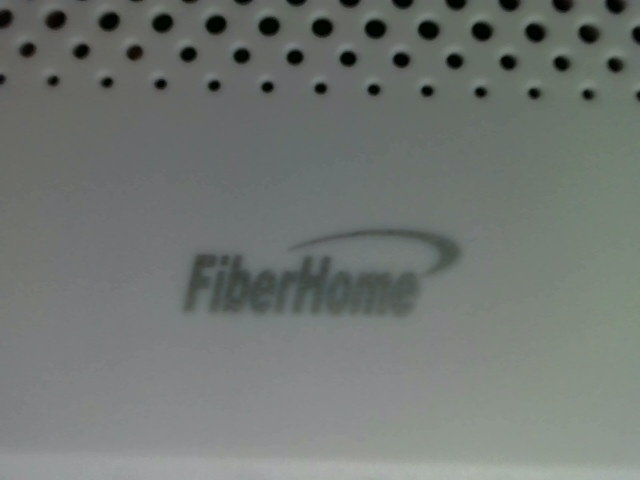AI_FiberHome: (171, 220, 467, 334)
